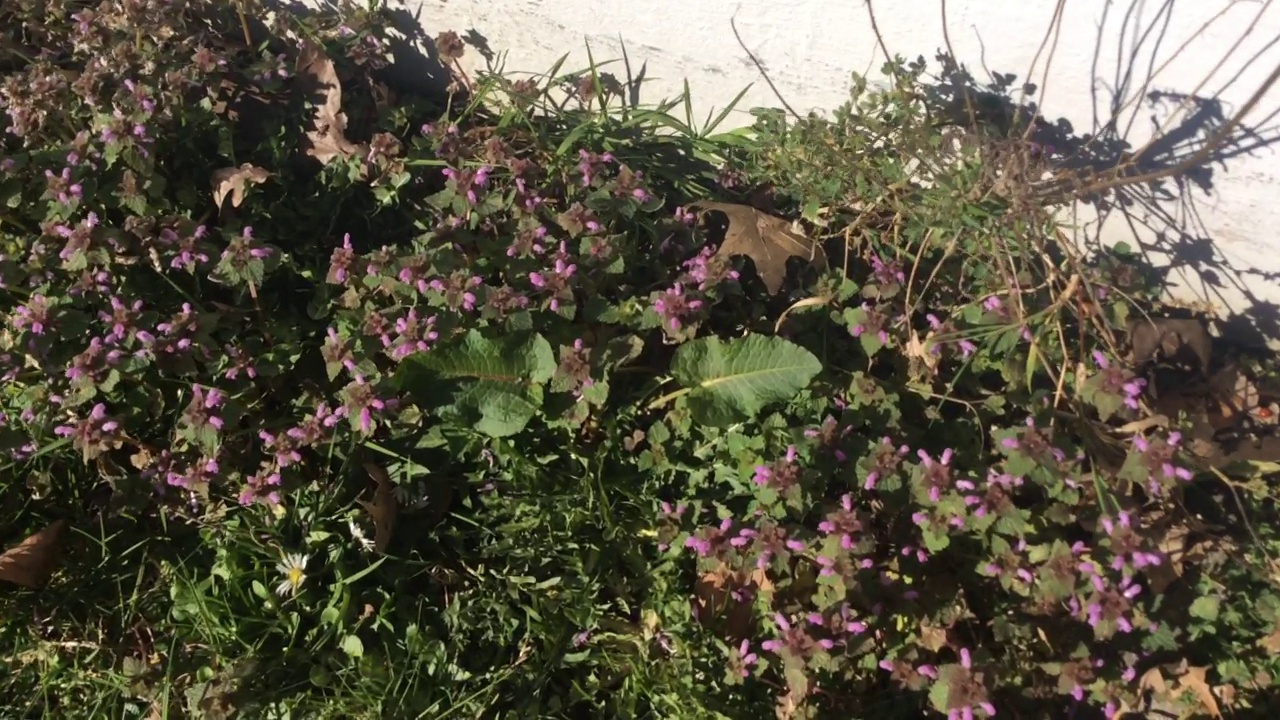rumex: (366, 328, 824, 439)
